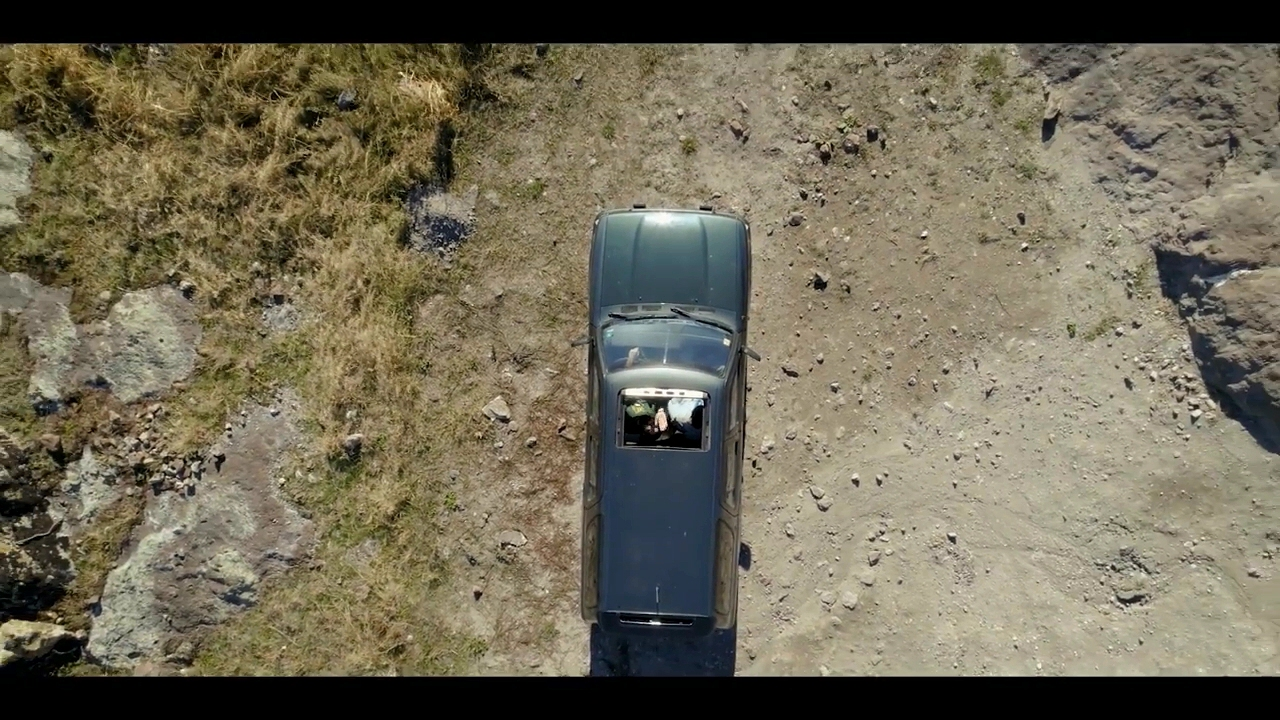araba: (580, 208, 752, 631)
